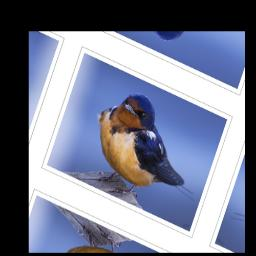Swallow: (76, 77, 219, 228)
